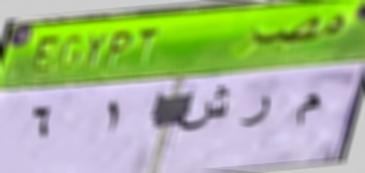1: (97, 97, 136, 138)
6: (24, 95, 65, 140)
meem: (293, 79, 325, 140)
raa: (236, 90, 278, 140)
sheen: (179, 83, 232, 140)
